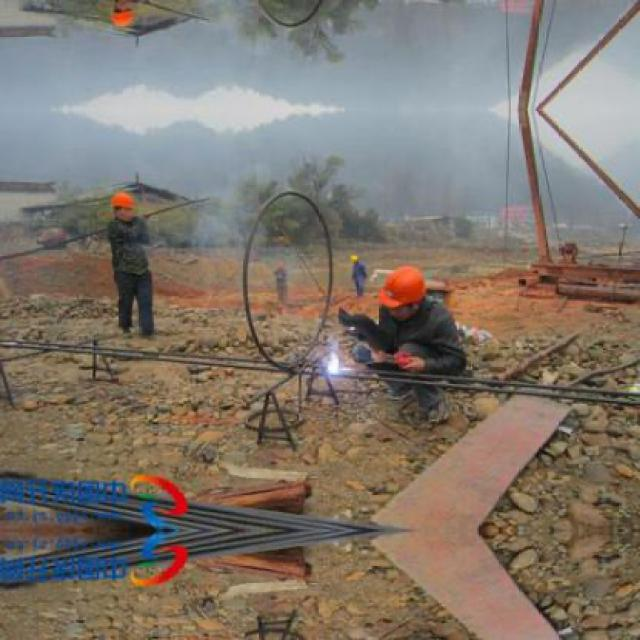helmet: (383, 265, 429, 315), (108, 188, 137, 225), (108, 0, 139, 32)
